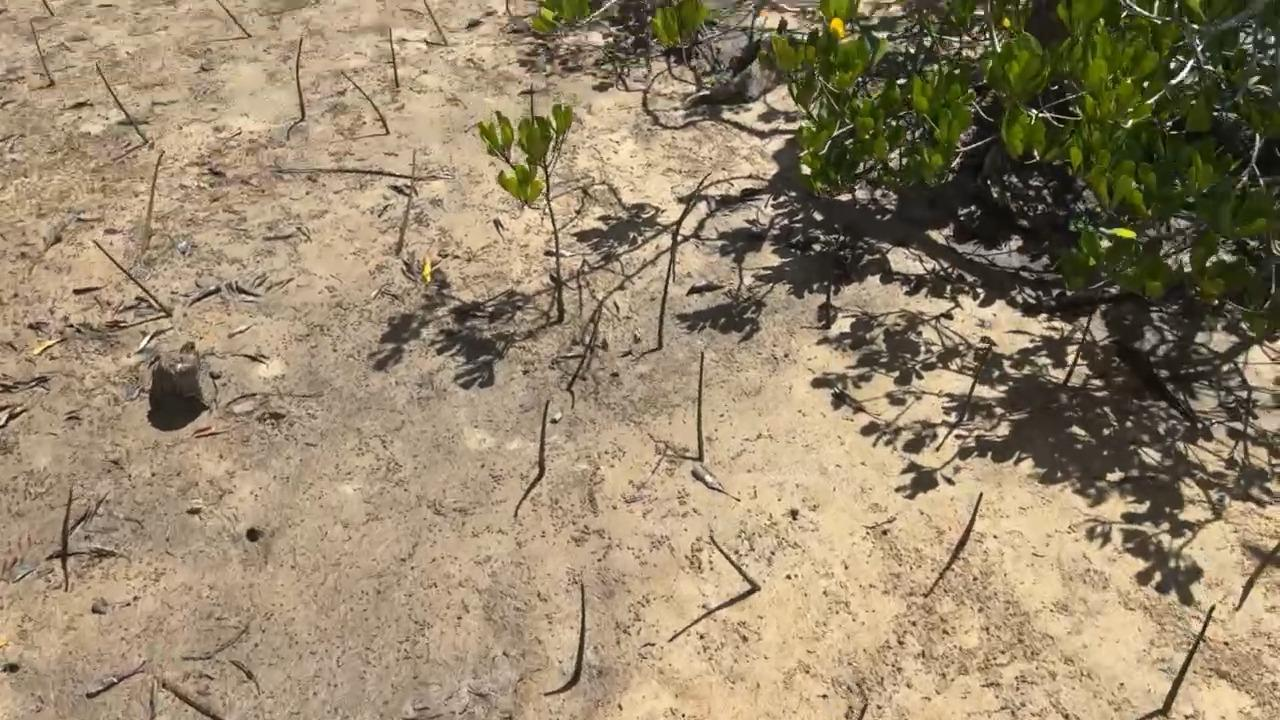Tree: (476, 100, 575, 324), (90, 239, 171, 318), (1161, 604, 1216, 714), (95, 61, 148, 143), (1235, 538, 1280, 609), (340, 70, 389, 134), (707, 535, 761, 592), (671, 172, 715, 238), (956, 345, 992, 424), (948, 491, 982, 569), (656, 233, 678, 349), (1062, 314, 1092, 387), (144, 149, 165, 239), (29, 19, 54, 87), (569, 582, 586, 679), (215, 0, 251, 37), (696, 350, 706, 462), (424, 0, 448, 46), (538, 399, 551, 476), (60, 484, 72, 562), (296, 36, 307, 120), (389, 27, 399, 87), (527, 83, 536, 124), (42, 0, 54, 16), (505, 0, 512, 16)
